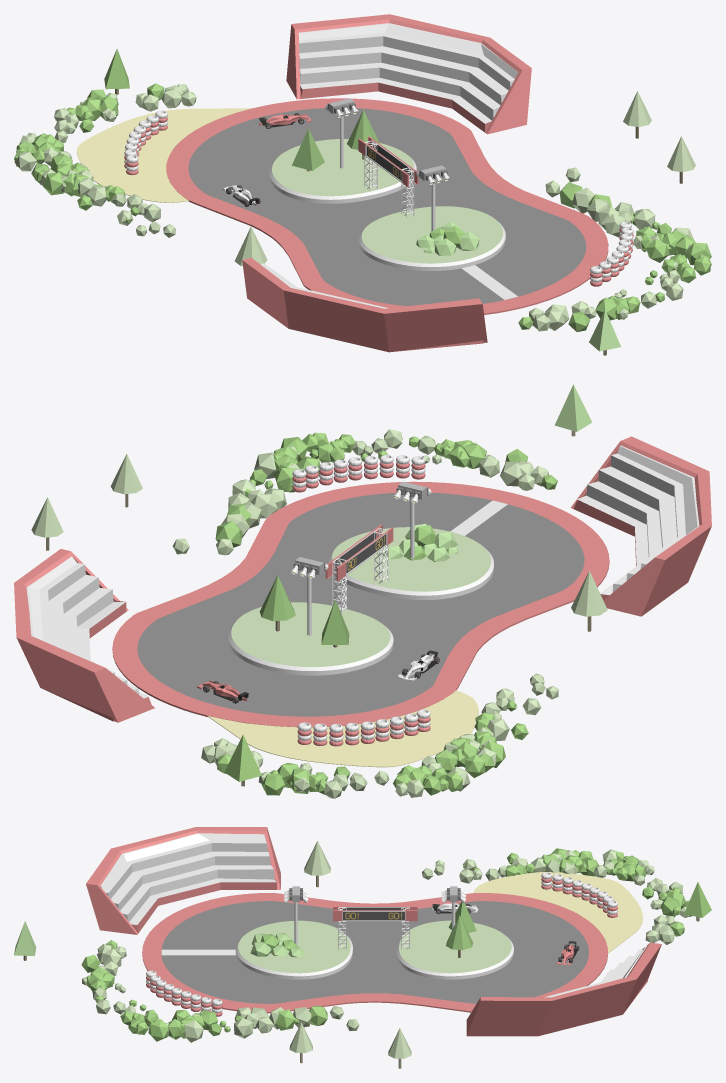
Rendered from racetrack_final.glb.
3 renders of one model, top to bottom at view 1: azimuth 30°, elevation 25°; view 2: azimuth 150°, elevation 25°; view 3: azimuth 270°, elevation 25°, orthographic. The views are drawn at different scales.
Visible parts, largest first — view 1: Cap_2_6, Cap_2_2, Cap_2_7, Cap, Loft_2, Cap_2, Loft, Cube_1, Extrude_3, Cap_2_3, Cap_2_5, Plane (+7 smaller); view 2: Cap_2_6, Cap_2_7, Cap, Cap_2_4, Cap_2, Cap_2_2, Loft, Loft_2, Cube_1, Cap_2_3, Cap_2_5, Cone_7 (+10 smaller); view 3: Cap_2_6, Cap_2_4, Cap_2_7, Cap, Loft, Cap_2, Cube_1, Loft_2, Extrude_3_2, Cap_2_3, Cap_2_5, Plane (+9 smaller).
Boxes of the visible parts, bbox=[...] form: Cap_2_6: bbox=[188, 108, 586, 306]; Cap_2_2: bbox=[298, 23, 518, 123]; Cap_2_7: bbox=[166, 98, 608, 313]; Cap: bbox=[272, 139, 502, 263]; Loft_2: bbox=[242, 260, 487, 352]; Cap_2: bbox=[76, 108, 251, 202]; Loft: bbox=[286, 19, 531, 134]; Cube_1: bbox=[269, 156, 517, 299]; Extrude_3: bbox=[300, 82, 491, 132]; Cap_2_3: bbox=[291, 14, 531, 70]; Cap_2_5: bbox=[242, 257, 482, 313]; Plane: bbox=[358, 136, 418, 186]; Cap_2_6: bbox=[137, 492, 584, 716]; Cap_2_7: bbox=[112, 481, 609, 726]; Cap: bbox=[231, 527, 490, 666]; Cap_2_4: bbox=[577, 445, 699, 595]; Cap_2: bbox=[207, 690, 478, 766]; Cap_2_2: bbox=[26, 556, 148, 698]; Loft: bbox=[16, 551, 154, 722]; Loft_2: bbox=[570, 441, 711, 616]; Cube_1: bbox=[228, 500, 507, 675]; Cap_2_3: bbox=[14, 549, 105, 672]; Cap_2_5: bbox=[621, 436, 711, 559]; Cone_7: bbox=[259, 575, 295, 621]; Cap_2_6: bbox=[161, 901, 588, 1003]; Cap_2_4: bbox=[100, 833, 276, 924]; Cap_2_7: bbox=[142, 893, 607, 1011]; Cap: bbox=[238, 920, 511, 973]; Loft: bbox=[466, 943, 661, 1036]; Cap_2: bbox=[473, 872, 642, 952]; Cube_1: bbox=[161, 934, 513, 979]; Loft_2: bbox=[86, 827, 280, 934]; Extrude_3_2: bbox=[131, 879, 276, 933]; Cap_2_3: bbox=[480, 942, 661, 1000]; Cap_2_5: bbox=[86, 827, 266, 884]; Plane: bbox=[333, 906, 417, 921].
Size of what is drawn, in the model's own units: 10.88 by 1.69 by 14.95.
